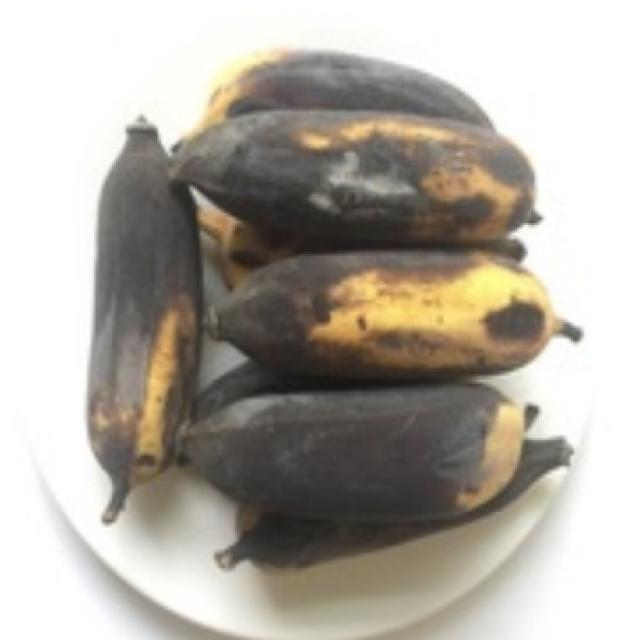rotten-banana: (184, 381, 561, 513), (214, 245, 586, 370), (162, 121, 540, 240), (86, 128, 196, 490), (198, 36, 530, 112)
